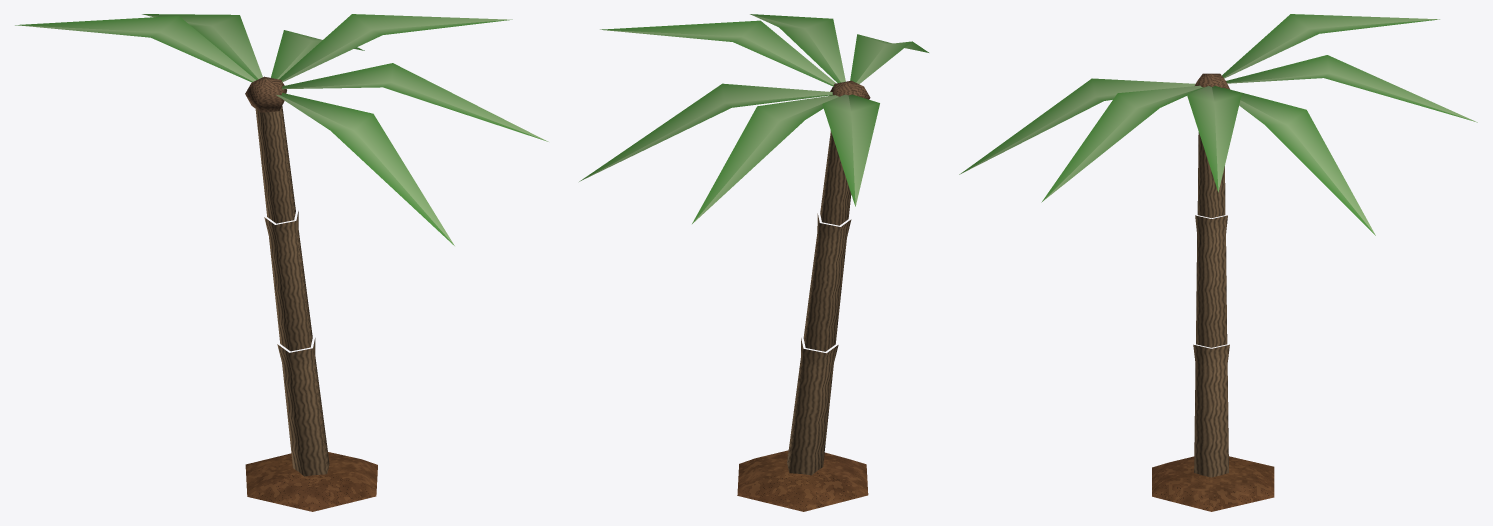
Rendered from plant-coconut-4-far.glb.
3 renders of one model, left to right at view 1: azimuth 30°, elevation 25°; view 2: azimuth 150°, elevation 25°; view 3: azimuth 270°, elevation 25°, orthographic. The views are drawn at different scales.
Visible parts, largest first — view 1: plant-coconut-4-far; view 2: plant-coconut-4-far; view 3: plant-coconut-4-far.
Part boxes in pixels (bbox=[...]): plant-coconut-4-far: bbox=[15, 14, 548, 511]; plant-coconut-4-far: bbox=[579, 14, 928, 511]; plant-coconut-4-far: bbox=[959, 14, 1477, 511].
Size of the model in its own units: 2.9 by 3.22 by 3.68.
3 materials, 2 textured.
